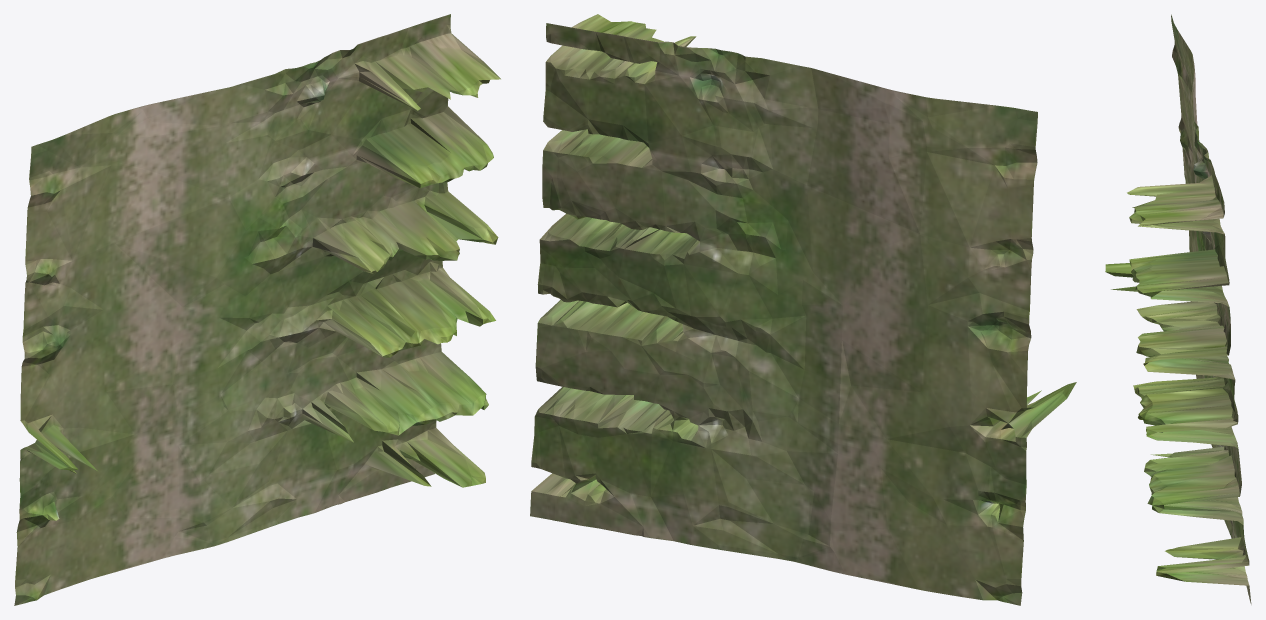
File: map_80_10.obj
3 views of the same model, side by side, from view 1: azimuth 30°, elevation 25°; view 2: azimuth 150°, elevation 25°; view 3: azimuth 270°, elevation 25° (orthographic). The views are drawn at different scales.
Visible parts, largest first — view 1: grp1; view 2: grp1; view 3: grp1.
Part boxes in pixels (bbox=[...]): grp1: bbox=[14, 14, 500, 605]; grp1: bbox=[530, 14, 1076, 605]; grp1: bbox=[1105, 14, 1251, 604].
Size of the model in its own units: 10 by 10 by 3.28.
Materials: 1 (1 with a texture image).
